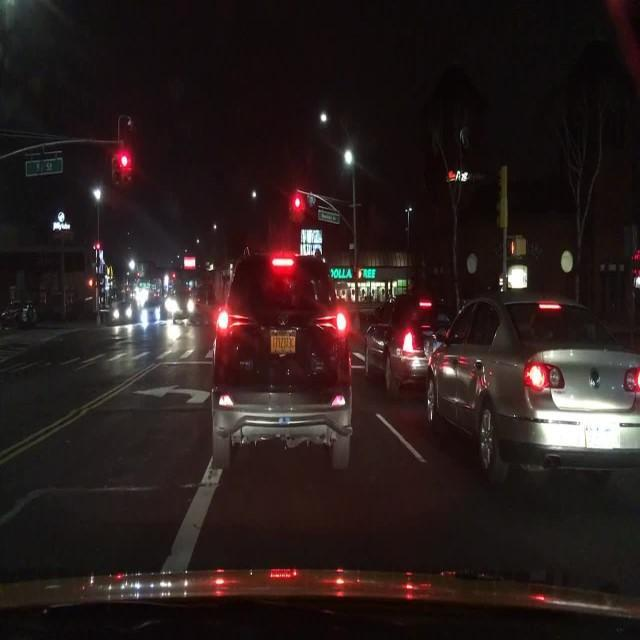normal: (155, 203, 640, 528)
